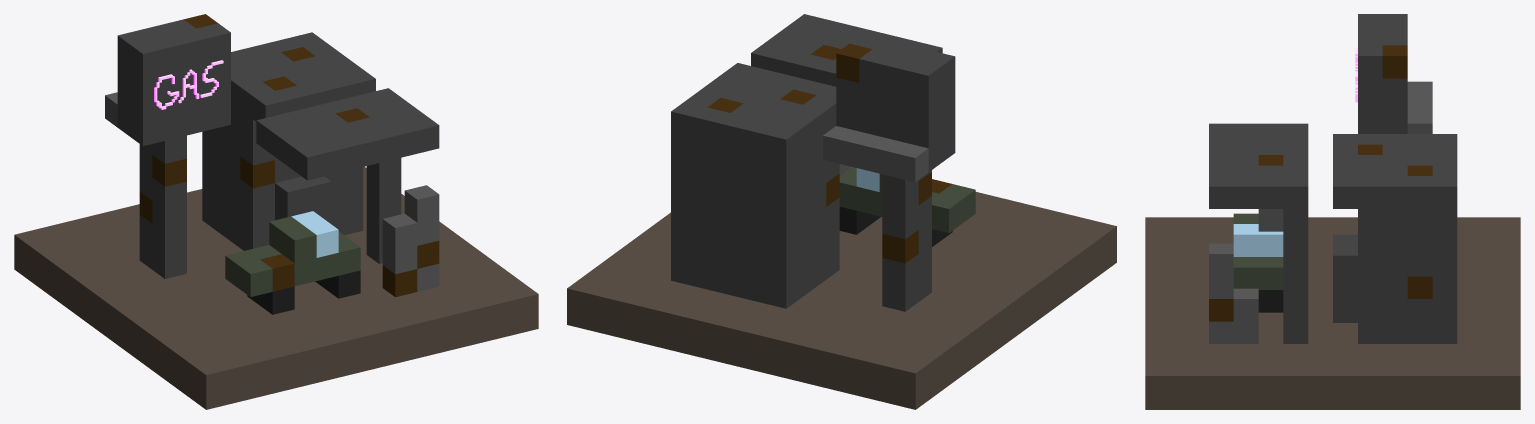
File: gas-0.glb
3 renders of one model, left to right at view 1: azimuth 30°, elevation 25°; view 2: azimuth 150°, elevation 25°; view 3: azimuth 270°, elevation 25°, orthographic. The views are drawn at different scales.
Visible parts, largest first — view 1: gas-0; view 2: gas-0; view 3: gas-0.
Boxes of the visible parts, left/top/right/bottom form: gas-0: left=14, top=14, right=538, bottom=409; gas-0: left=567, top=14, right=1116, bottom=409; gas-0: left=1145, top=14, right=1520, bottom=409.
Bounding box in the file's own units: 1 × 0.7623 × 1.
